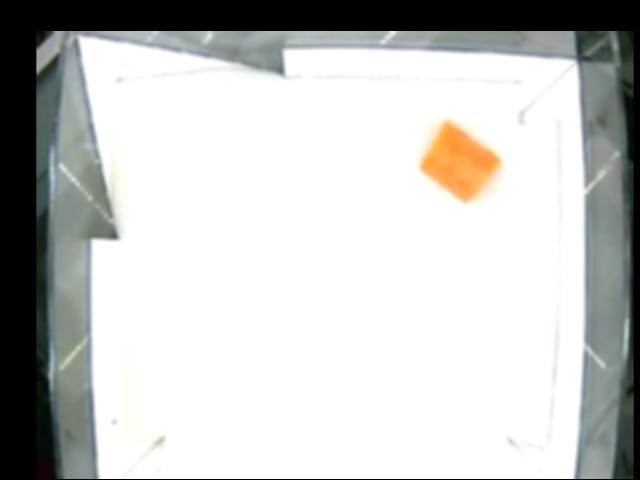Carrot: (421, 119, 500, 204)
